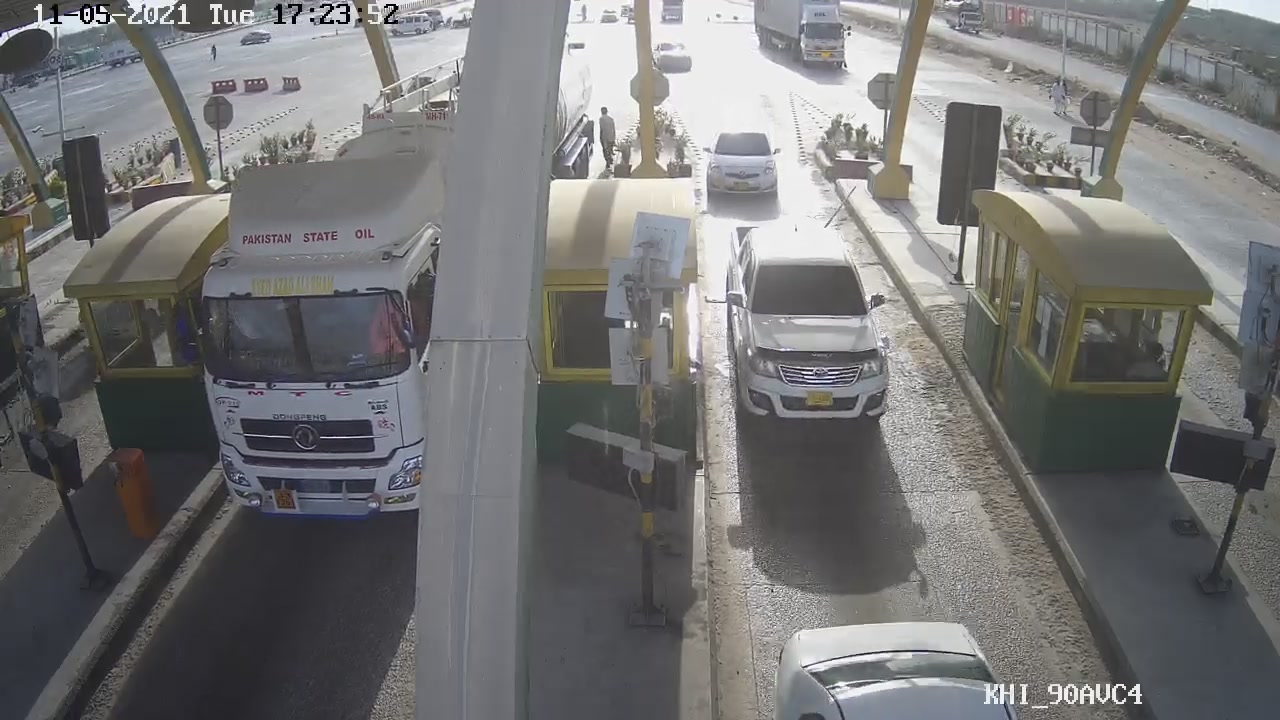F1: (718, 209, 905, 428)
